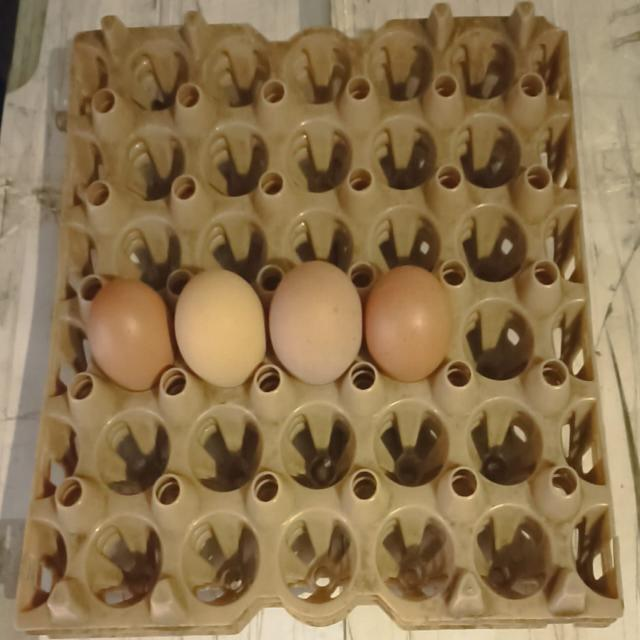Eggs: (271, 260, 364, 391), (86, 253, 178, 384), (176, 259, 265, 386), (369, 256, 451, 386)
